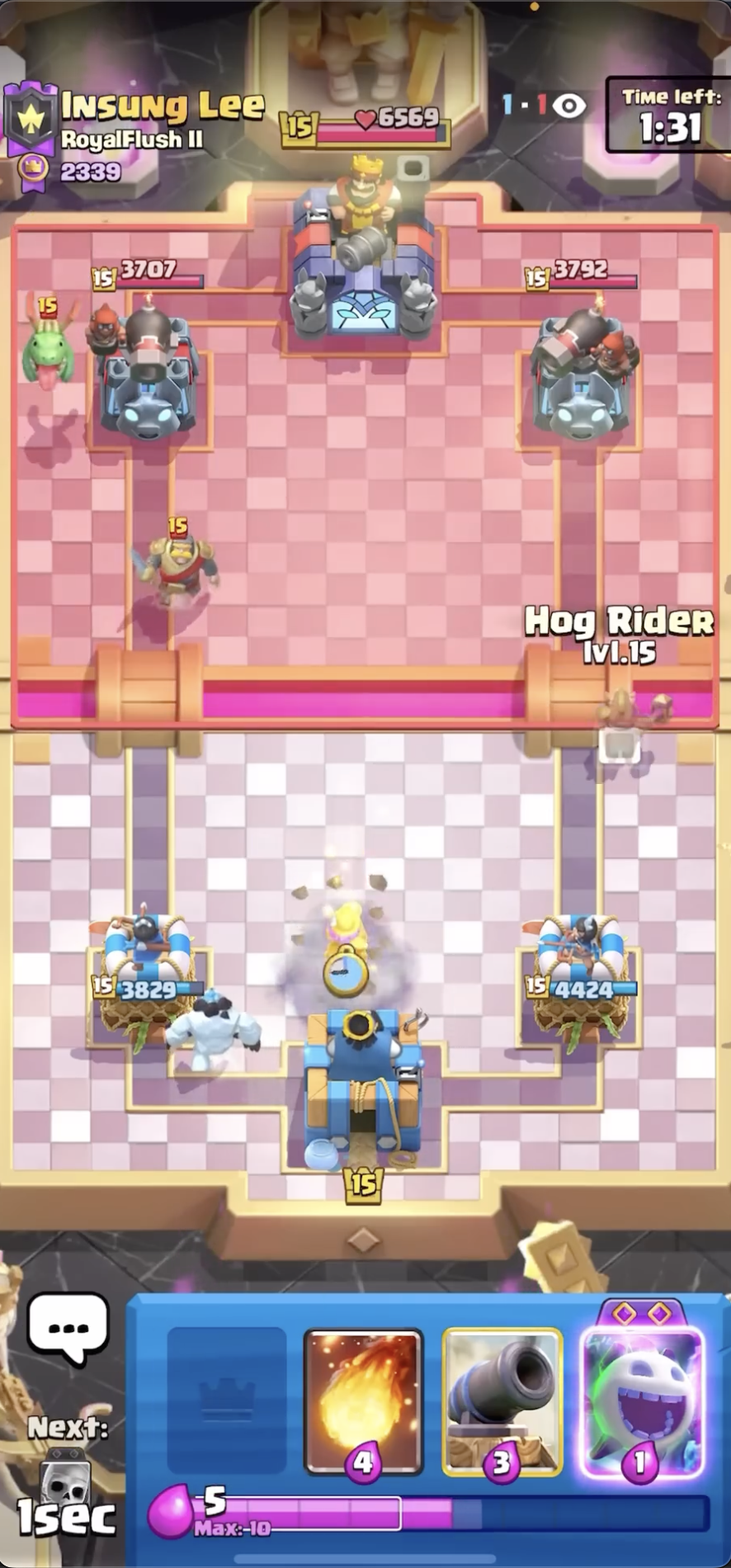hog-rider: (594, 676, 674, 781)
ice-golem: (164, 980, 270, 1075)
musketeer: (312, 885, 383, 982)
